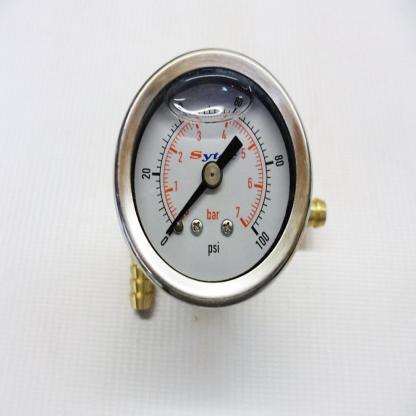needle: (165, 181, 208, 235)
